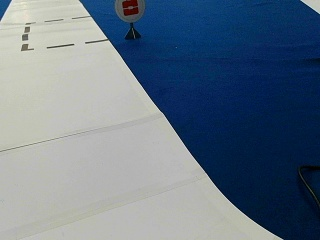company: (114, 0, 145, 22)
